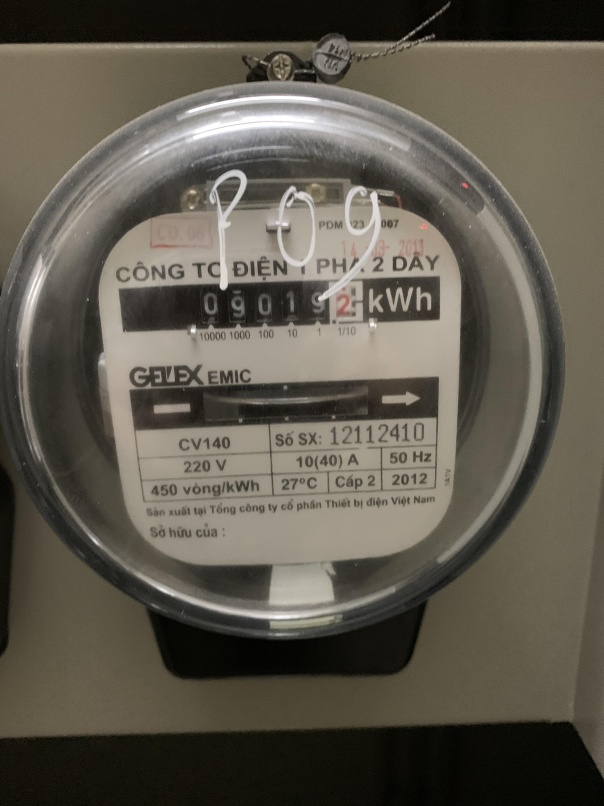counter: (116, 284, 444, 327)
electricity_meter: (7, 83, 565, 629)
